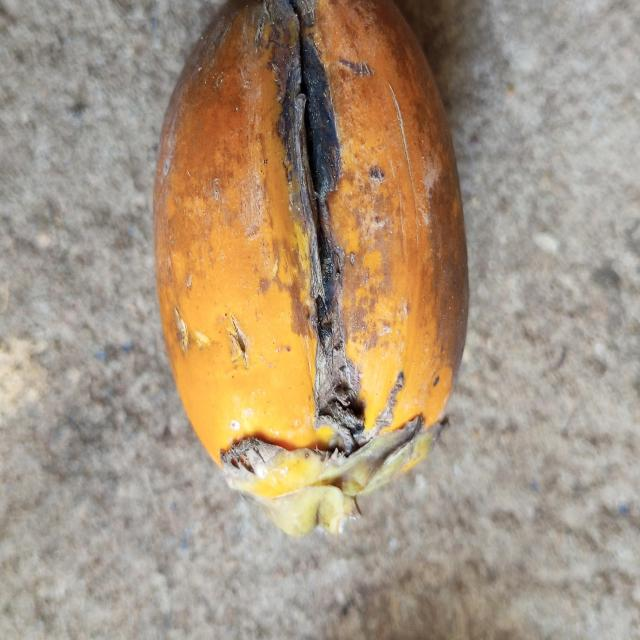damaged: (154, 0, 468, 533)
